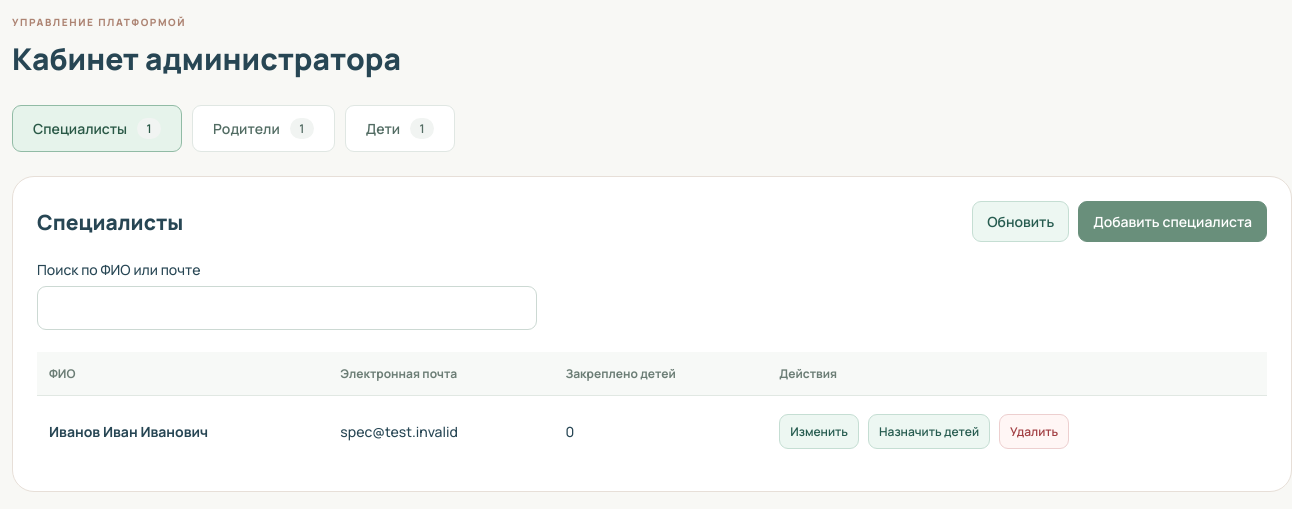
Scenario: admin has separate parent and specialist tables without an admin record or inline FIO inputs
Expected: the text "spec@test.invalid" is shown, [328,396,553,467]
Expected: the text "parent@test.invalid" is not shown
Click the button "Родители 1" at (263, 128), box [192,105,335,152]
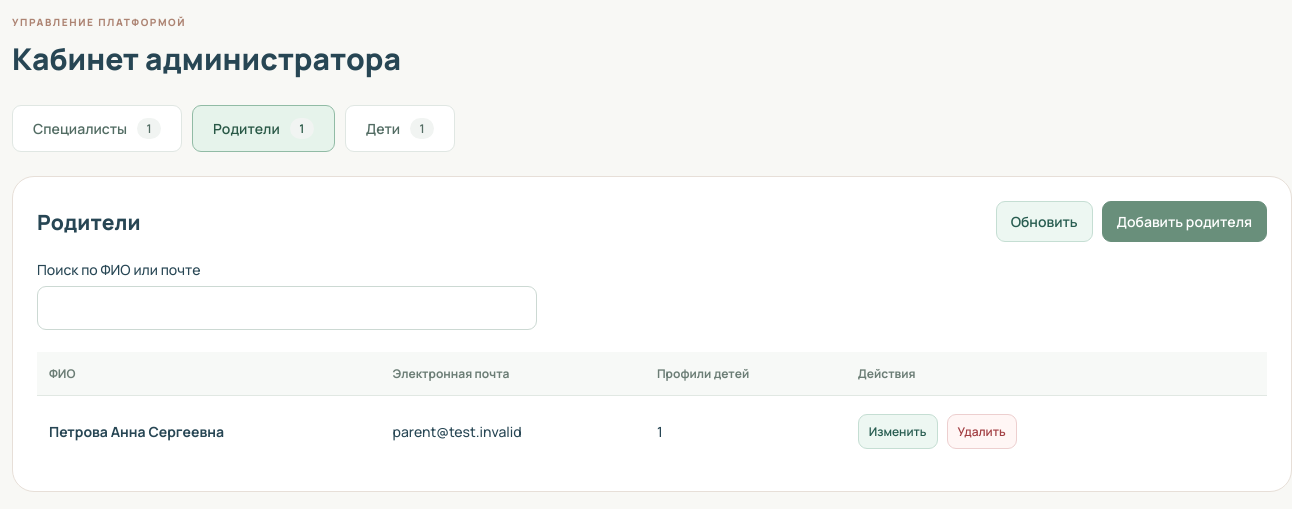
Expected: the text "parent@test.invalid" is shown, [380,396,645,467]
Expected: the text "spec@test.invalid" is gone
